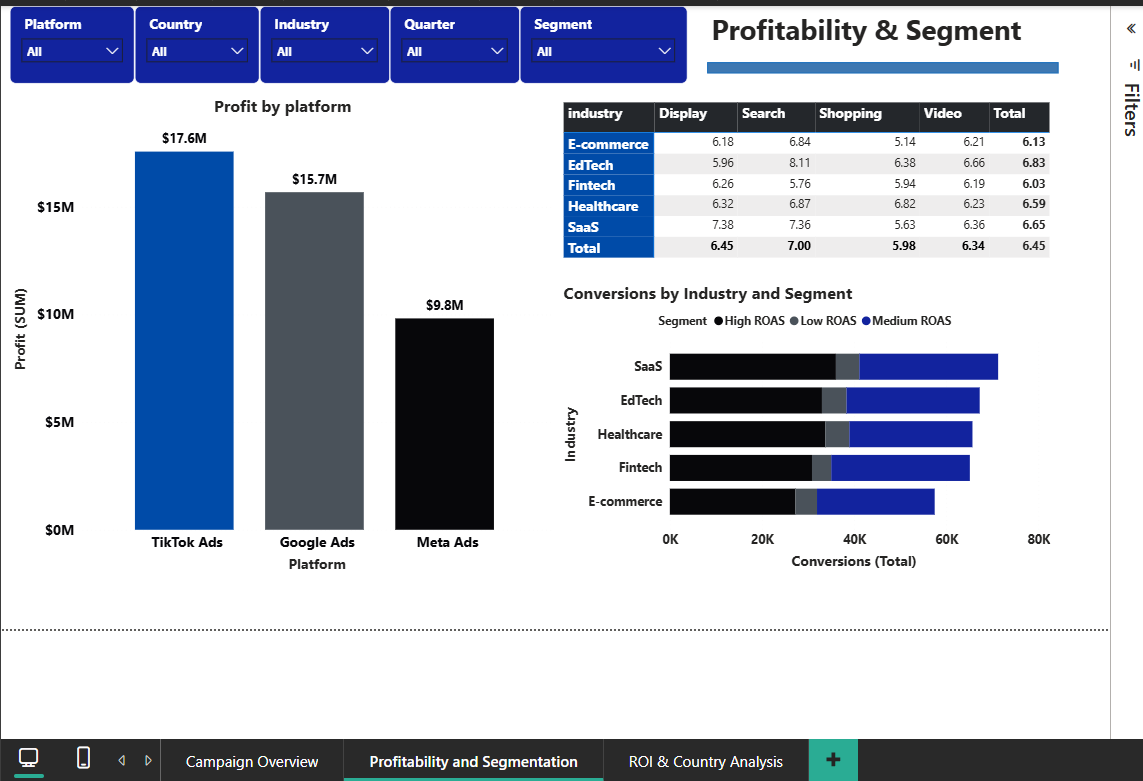

What the dashboard file says about the page in this screenshot:
{"tool":"powerbi","page":{"name":"Profitability and Segmentation","canvas":[1280,720],"ordinal":1},"visuals":[{"type":"pivotTable","fields":{"Columns":["digital marketing campaign_cleaned.campaign_type"],"Rows":["digital marketing campaign_cleaned.industry"],"Values":["Avg(digital marketing campaign_cleaned.ROAS)"]},"box":[640.6,102.4,580,212.1],"z":0},{"type":"clusteredColumnChart","title":"Profit by platform","fields":{"Category":["digital marketing campaign_cleaned.platform"],"Y":["Sum(digital marketing campaign_cleaned.profit)"]},"box":[10.1,102.4,630.5,556.9],"z":1000},{"type":"slicer","fields":{"Values":["digital marketing campaign_cleaned.platform"]},"box":[10.1,0,144.3,89.5],"z":2000},{"type":"slicer","fields":{"Values":["digital marketing campaign_cleaned.country"]},"box":[154.4,0,144.3,89.5],"z":3000},{"type":"slicer","fields":{"Values":["digital marketing campaign_cleaned.industry"]},"box":[298.7,0,150,89.5],"z":4000},{"type":"slicer","fields":{"Values":["digital marketing campaign_cleaned.date.Variation.Date Hierarchy.Quarter"]},"box":[448.7,0,150,89.5],"z":5000},{"type":"slicer","fields":{"Values":["digital marketing campaign_cleaned.segment"]},"box":[598.7,0,193.3,89.5],"z":6000},{"type":"barChart","title":"Conversions by Industry and Segment","fields":{"Category":["digital marketing campaign_cleaned.industry"],"Series":["digital marketing campaign_cleaned.segment"],"Y":["Sum(digital marketing campaign_cleaned.conversions)"]},"box":[640.6,314.5,580,344.8],"z":7000},{"type":"textbox","box":[815.2,0,405.4,64.9],"z":8000},{"type":"shape","box":[815.2,64.9,405.4,13],"z":8001}]}

Visuals, with their boxes on the page's 1280x720 design canvas (x1, y1, x2, y2). These are canvas units, not pixel positions in the 1143x781 screenshot, which may show the page scaled, cropped or inside an application window:
pivotTable - digital marketing campaign_cleaned.campaign_type x digital marketing campaign_cleaned.industry: x1=641, y1=102, x2=1221, y2=314
"Profit by platform" clusteredColumnChart: x1=10, y1=102, x2=641, y2=659
slicer - digital marketing campaign_cleaned.platform: x1=10, y1=0, x2=154, y2=90
slicer - digital marketing campaign_cleaned.country: x1=154, y1=0, x2=299, y2=90
slicer - digital marketing campaign_cleaned.industry: x1=299, y1=0, x2=449, y2=90
slicer - digital marketing campaign_cleaned.date.Variation.Date Hierarchy.Quarter: x1=449, y1=0, x2=599, y2=90
slicer - digital marketing campaign_cleaned.segment: x1=599, y1=0, x2=792, y2=90
"Conversions by Industry and Segment" barChart: x1=641, y1=314, x2=1221, y2=659
textbox: x1=815, y1=0, x2=1221, y2=65
shape: x1=815, y1=65, x2=1221, y2=78
